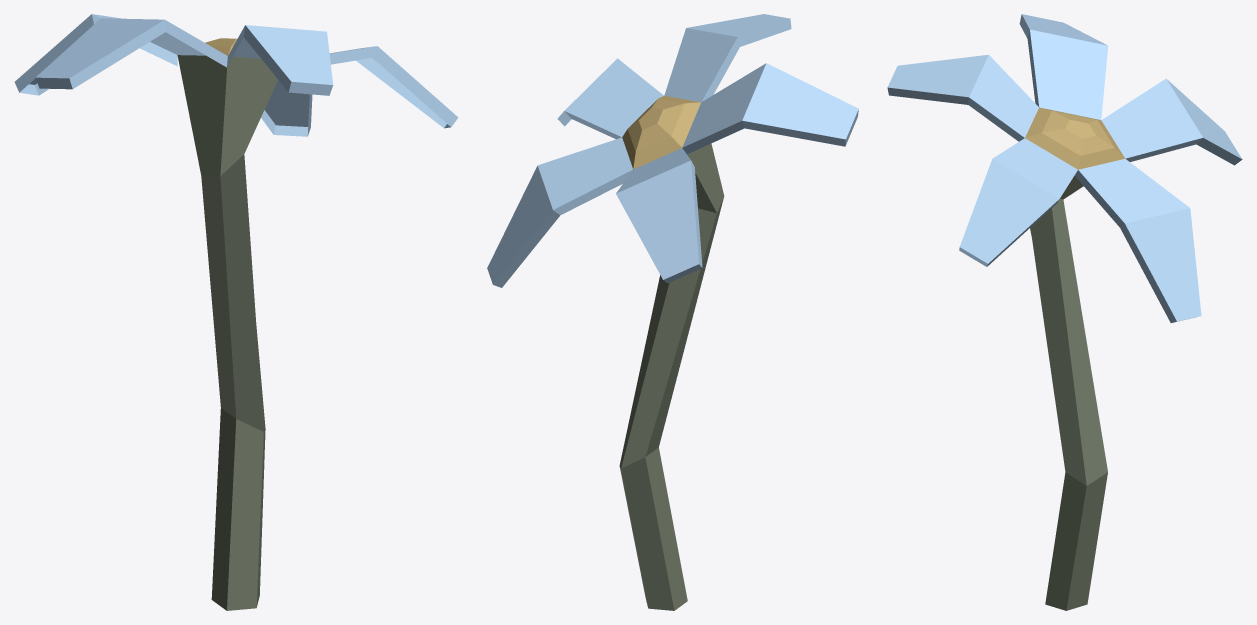
File: flower_2.fbx
3 views of the same model, side by side, from view 1: azimuth 30°, elevation 25°; view 2: azimuth 150°, elevation 25°; view 3: azimuth 270°, elevation 25° (orthographic). The views are drawn at different scales.
Parts seen in each view (by area): view 1: flower1; view 2: flower1; view 3: flower1.
Boxes of the visible parts, <box> form: flower1: <box>14,14,458,610</box>; flower1: <box>487,14,858,610</box>; flower1: <box>887,14,1242,610</box>.
Size of the model in its own units: 0.1564 by 0.2492 by 0.1506.
